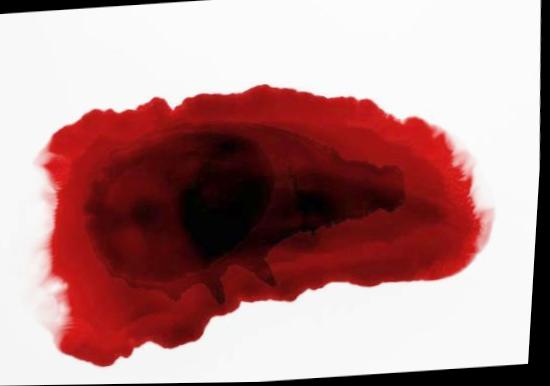Fire: (37, 87, 498, 368)
